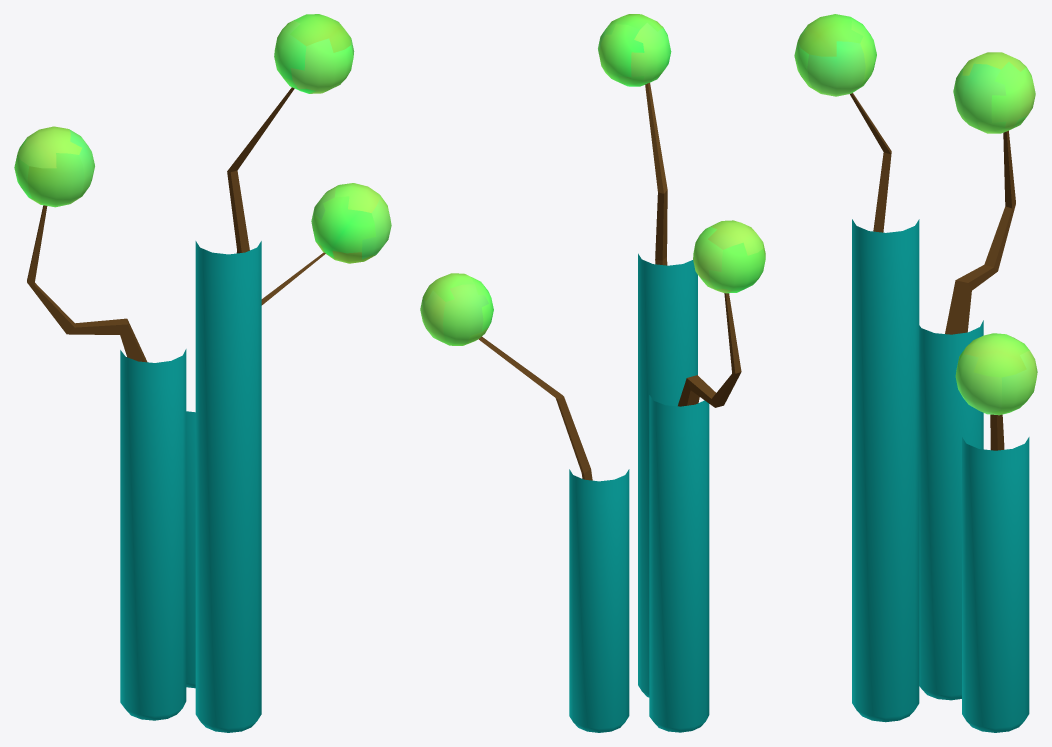
Rendered from 9aa3a8ca-5e19-4fb1-ac50-a2c3f0eace2c.glb.
3 renders of one model, left to right at view 1: azimuth 30°, elevation 25°; view 2: azimuth 150°, elevation 25°; view 3: azimuth 270°, elevation 25°, orthographic. The views are drawn at different scales.
Parts seen in each view (by area): view 1: TableCenter00; view 2: TableCenter00; view 3: TableCenter00.
Part boxes in pixels (x1,y1,x2,y2): TableCenter00: (14,14,391,732); TableCenter00: (420,14,765,732); TableCenter00: (794,14,1037,732).
Size of what is drawn, in the model's own units: 0.6393 by 1.18 by 0.3585.
1 material, 1 textured.
